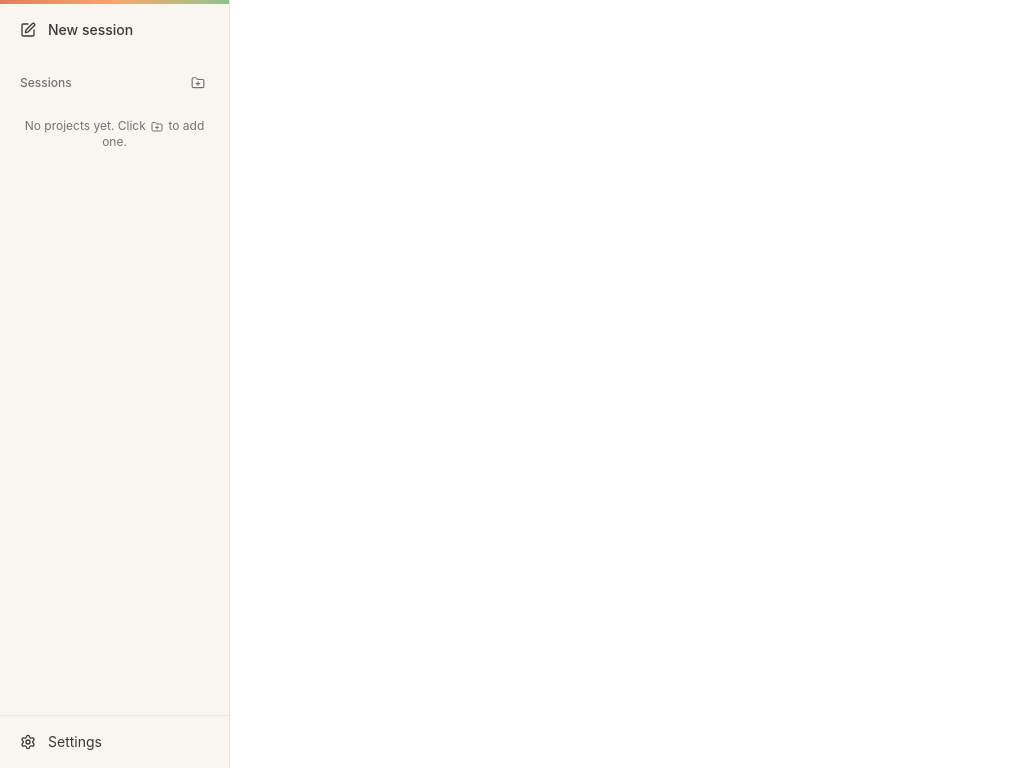
Test: Sidebar workspace controls › falls back to the manual dialog with prefilled values when direct creation fails
Click the button named "Add a new directory". click: (198, 83)
box: x1=187 y1=72 x2=209 y2=94
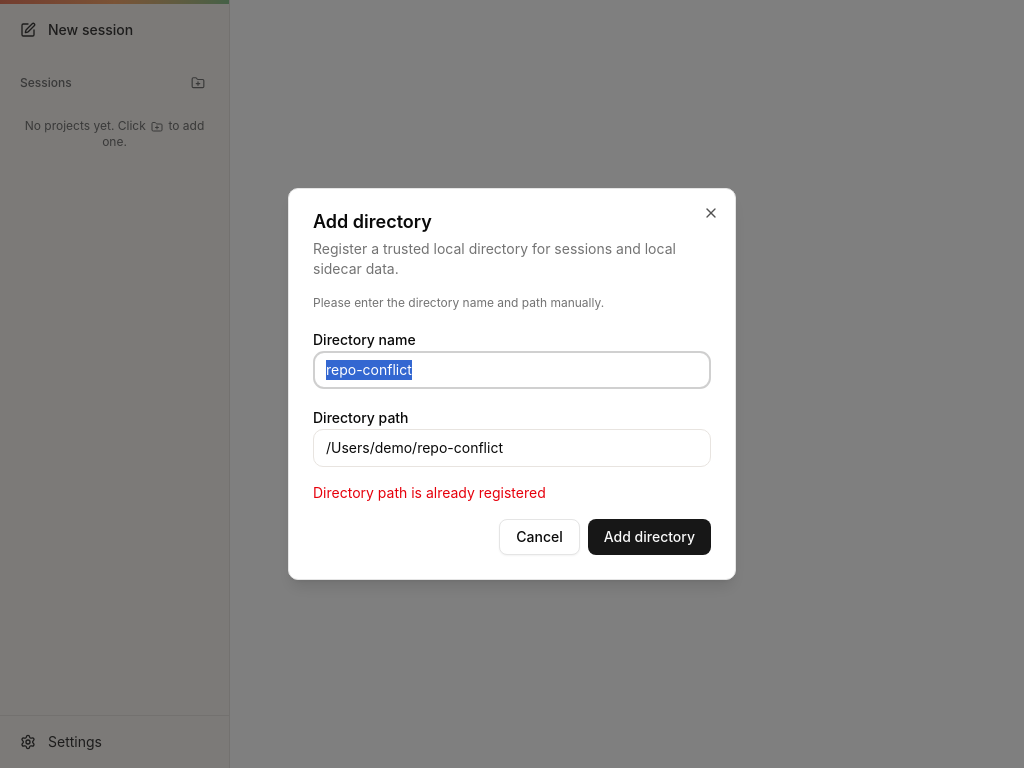
Now the field labelled "Directory name" holds "repo-conflict", box x1=313 y1=351 x2=711 y2=389
Now the field labelled "Directory path" holds "/Users/demo/repo-conflict", box x1=313 y1=429 x2=711 y2=467
Now the text "Directory path is already registered" is shown, box x1=313 y1=484 x2=546 y2=501
